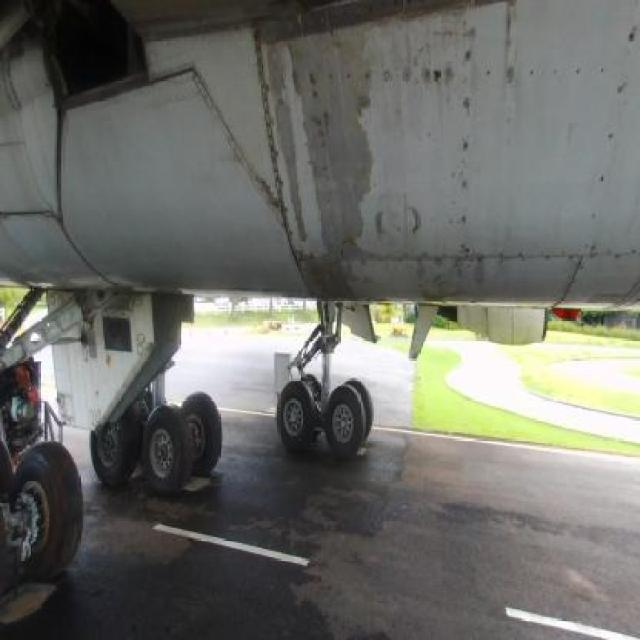Missing-Rivet: (575, 162, 639, 282), (372, 244, 572, 278), (297, 54, 461, 92), (454, 19, 474, 268), (606, 10, 640, 156), (480, 58, 614, 93)
Rust: (490, 0, 547, 65)
Scartch: (259, 13, 390, 296), (392, 9, 473, 140), (394, 252, 494, 300), (365, 191, 430, 240), (502, 43, 520, 85)
